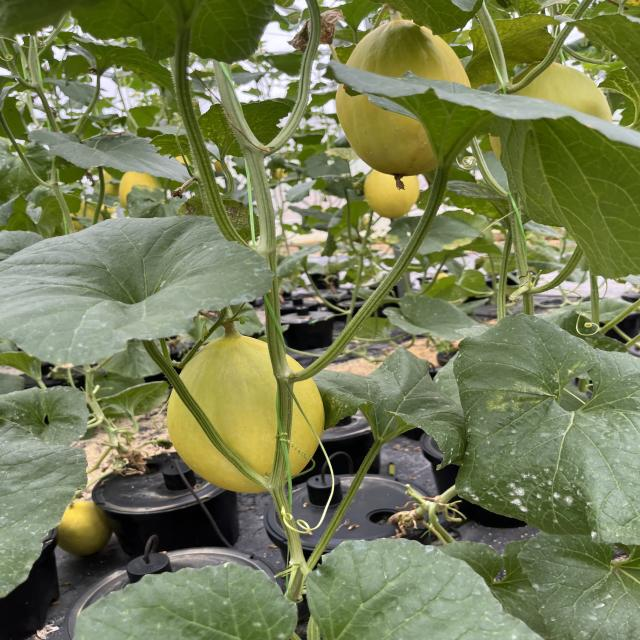CMV: (0, 217, 274, 369)
downy mildew: (446, 312, 640, 535), (0, 384, 109, 580), (510, 532, 640, 640)
healthy: (355, 62, 640, 271), (23, 118, 192, 195), (0, 387, 91, 448)
powdery mildew: (442, 318, 640, 537), (303, 531, 540, 640), (56, 557, 316, 640), (309, 345, 449, 436)
